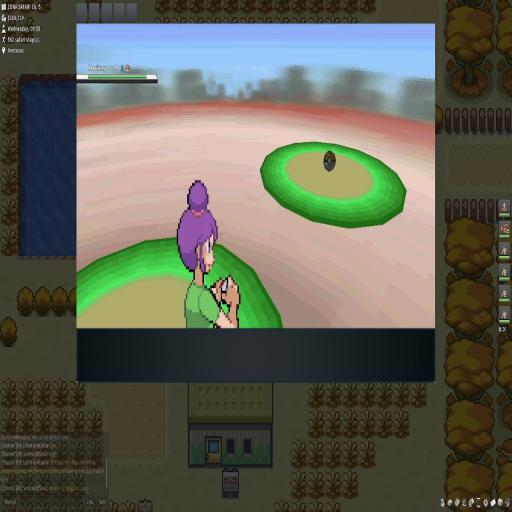SUCESSFULCAPTURE: (324, 150, 336, 172)
